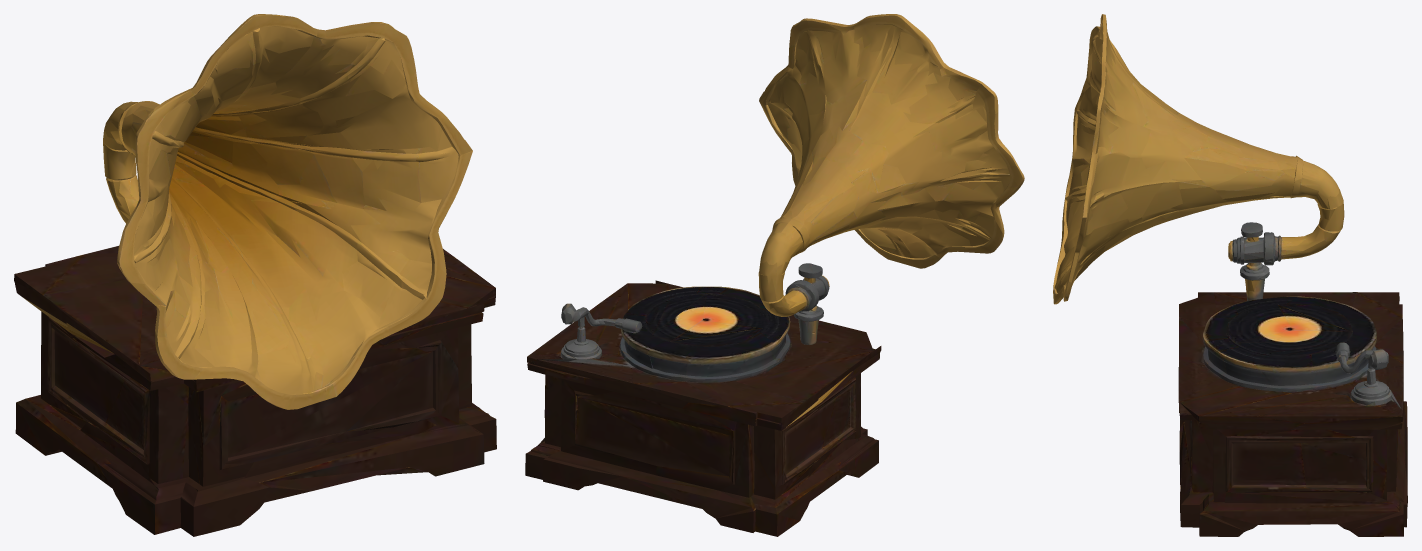
The model's file is phonograph.glb.
The picture shows the model from 3 angles, left to right: view 1: azimuth 30°, elevation 25°; view 2: azimuth 150°, elevation 25°; view 3: azimuth 270°, elevation 25°; orthographic projection. The views are drawn at different scales.
Bounding box in the file's own units: 1.65 × 1.9 × 1.48.
1 material, 1 textured.
